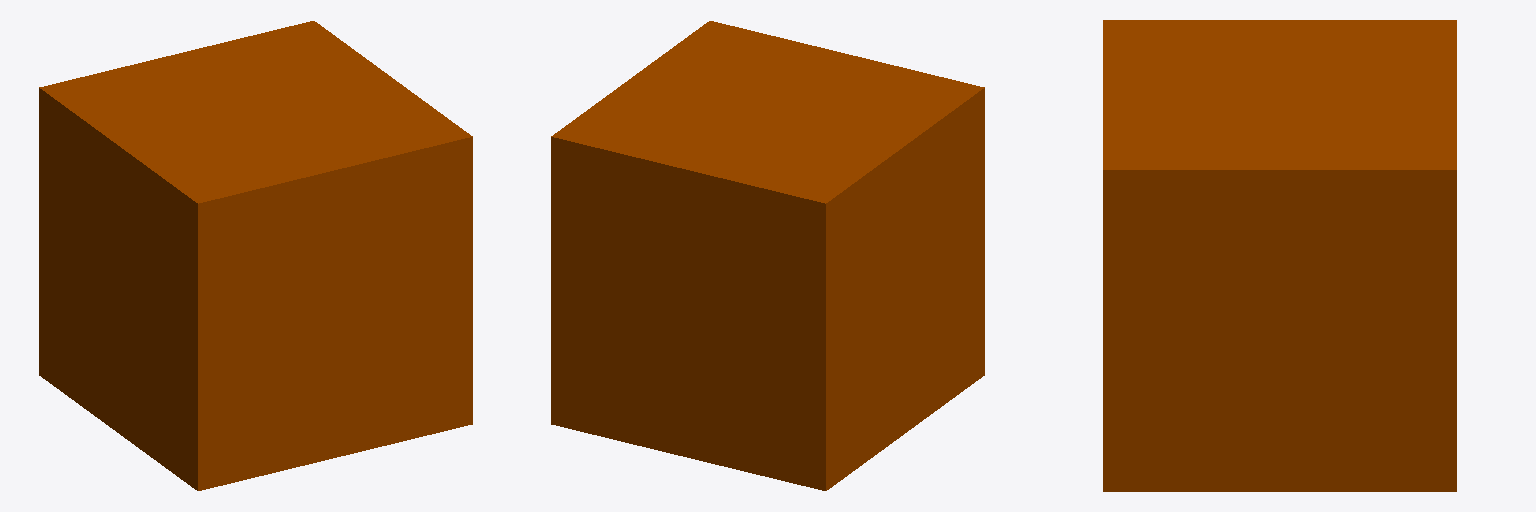
The robot description file, URDF, robot "obstacle-25.SLDASM":
<?xml version="1.0" encoding="utf-8"?>
<!-- This URDF was automatically created by SolidWorks to URDF Exporter! Originally created by [author] ([email redacted]) 
     Commit Version: 1.6.0-4-g7f85cfe  Build Version: 1.6.7995.38578
     For more information, please see http://wiki.ros.org/sw_urdf_exporter -->
<robot
  name="obstacle-25.SLDASM">
  <link
    name="ob_body">
    <inertial>
      <origin
        xyz="-3.4694E-17 -3.4694E-17 0.125"
        rpy="0 0 0" />
      <mass
        value="15.625" />
      <inertia
        ixx="0.16276"
        ixy="9.035E-19"
        ixz="9.035E-19"
        iyy="0.16276"
        iyz="0"
        izz="0.16276" />
    </inertial>
    <visual>
      <origin
        xyz="0 0 0"
        rpy="0 0 0" />
      <geometry>
        <mesh
          filename="package://obstacle-25.SLDASM/meshes/ob_body.STL" />
      </geometry>
      <material
        name="obstacle">
        <color
          rgba="0.67 0.33 0 0.5" />
      </material>
    </visual>
    <collision>
      <origin
        xyz="0 0 0"
        rpy="0 0 0" />
      <geometry>
        <mesh
          filename="package://obstacle-25.SLDASM/meshes/ob_body.STL" />
      </geometry>
    </collision>
  </link>
</robot>

--- Render facts (derived) ---
The picture shows the robot from 3 angles, left to right: view 1: azimuth 30°, elevation 25°; view 2: azimuth 150°, elevation 25°; view 3: azimuth 270°, elevation 25°; orthographic projection.
Model obstacle-25.SLDASM with 1 links and 0 joints (none), rooted at ob_body, posed every joint at zero.
Links seen in each view (by area): view 1: ob_body; view 2: ob_body; view 3: ob_body.
Link boxes in pixels (bbox=[...]): ob_body: bbox=[39, 21, 472, 490]; ob_body: bbox=[551, 21, 984, 490]; ob_body: bbox=[1103, 20, 1456, 491].
Bounding box of the posed robot: 0.25 × 0.25 × 0.25 m (x, y, z).
Meshes: 1 distinct files referenced, 1 mesh visuals loaded (1 binary STL).